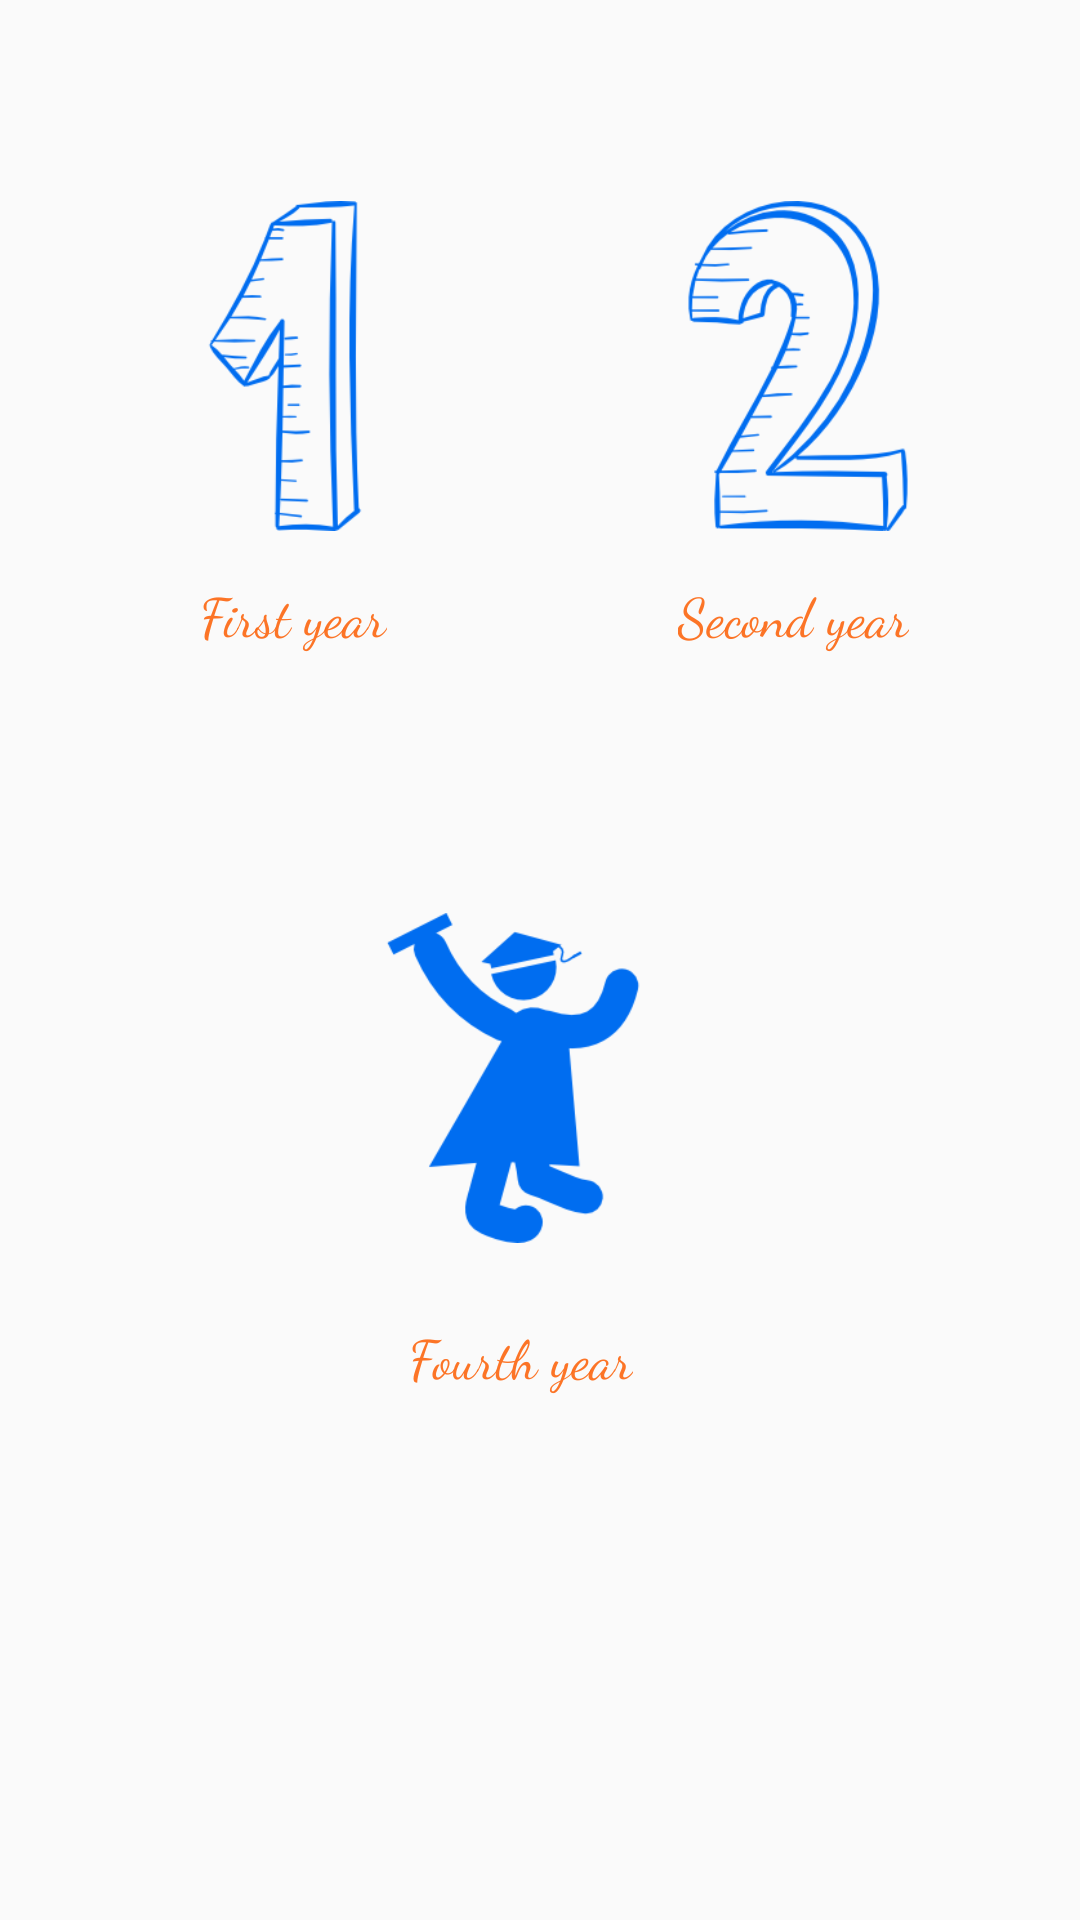

Icon bounding boxes for this 1080w x 1920h phone screenshot, format (x1, y1, x2, y2):
finalsem: (387, 913, 640, 1243)
